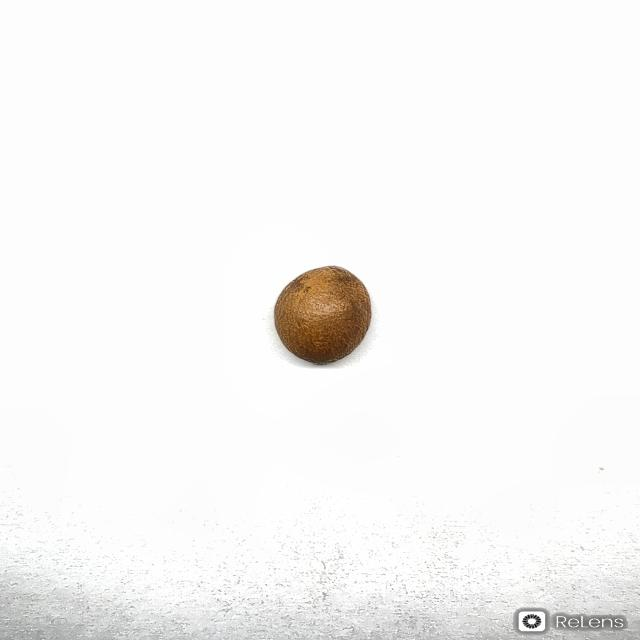Good bean: (272, 264, 372, 364)
